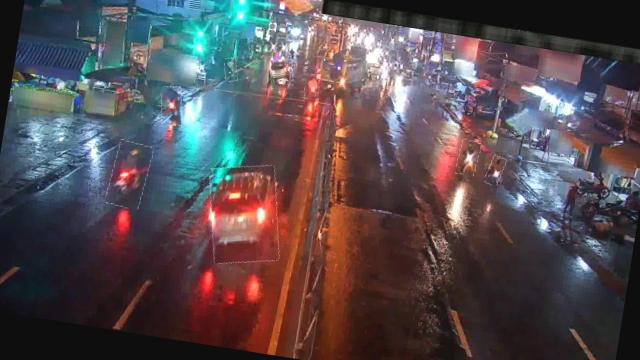Bike: (105, 138, 152, 210), (158, 85, 186, 127), (454, 139, 480, 177), (486, 155, 506, 186), (304, 72, 322, 102), (222, 56, 240, 82)
Car: (199, 159, 288, 270), (269, 56, 295, 82)
